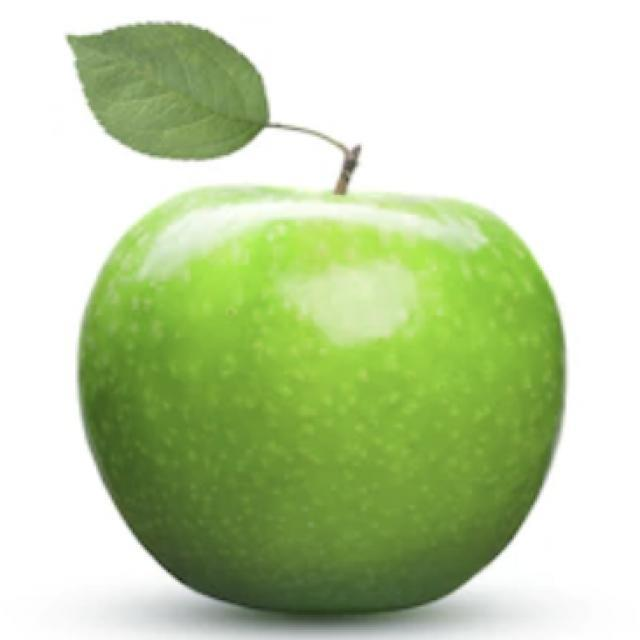Fresh Apple: (88, 158, 566, 640)
